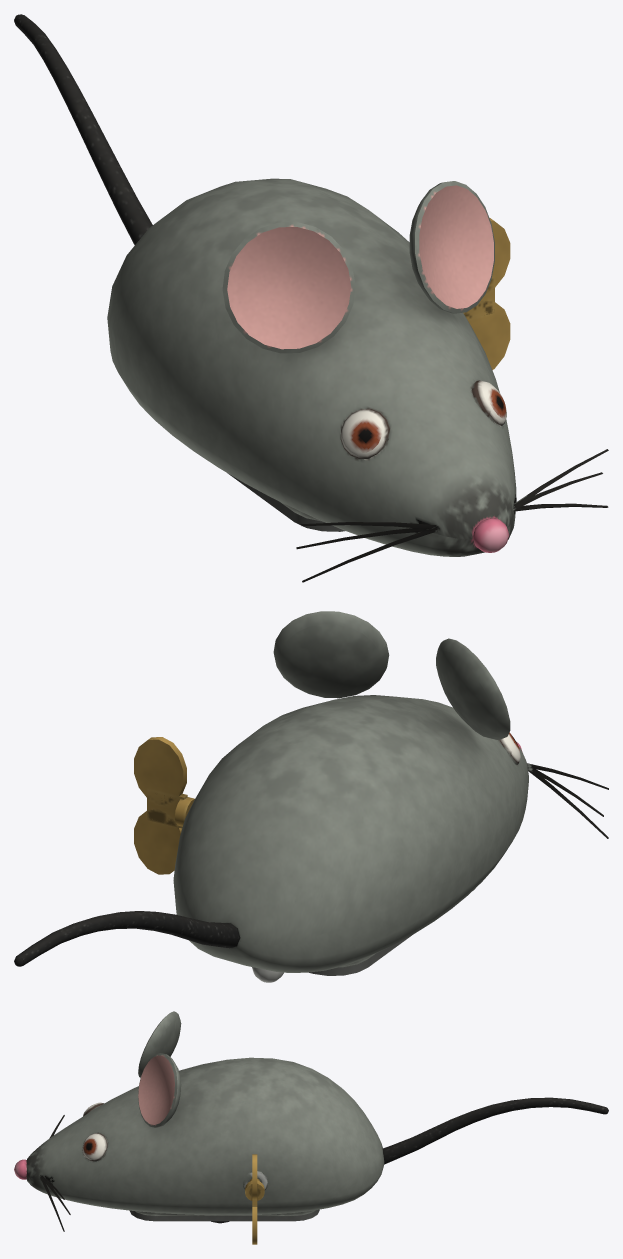
File: WindupMouse.fbx
3 views of the same model, one above another, from view 1: azimuth 30°, elevation 25°; view 2: azimuth 150°, elevation 25°; view 3: azimuth 270°, elevation 25° (orthographic). The views are drawn at different scales.
Parts seen in each view (by area): view 1: WindupMouse_Body, WindupMouse_Ears, WindupMouse_Tail, WindupMouse_Key; view 2: WindupMouse_Body, WindupMouse_Ears, WindupMouse_Key, WindupMouse_Tail; view 3: WindupMouse_Body, WindupMouse_Ears, WindupMouse_Tail, WindupMouse_Key.
Boxes of the visible parts, left/top/right/bottom form: WindupMouse_Body: left=107, top=178, right=608, bottom=582; WindupMouse_Ears: left=222, top=181, right=494, bottom=353; WindupMouse_Tail: left=14, top=14, right=152, bottom=245; WindupMouse_Key: left=463, top=218, right=510, bottom=369; WindupMouse_Body: left=173, top=695, right=608, bottom=982; WindupMouse_Ears: left=273, top=611, right=510, bottom=740; WindupMouse_Key: left=134, top=737, right=194, bottom=874; WindupMouse_Tail: left=14, top=911, right=240, bottom=966; WindupMouse_Body: left=14, top=1057, right=384, bottom=1231; WindupMouse_Ears: left=138, top=1011, right=181, bottom=1127; WindupMouse_Tail: left=382, top=1097, right=608, bottom=1164; WindupMouse_Key: left=245, top=1154, right=264, bottom=1244.
Size of the model in its own units: 0.2227 by 0.1703 by 0.5417.
Materials: 1 (1 with a texture image).
